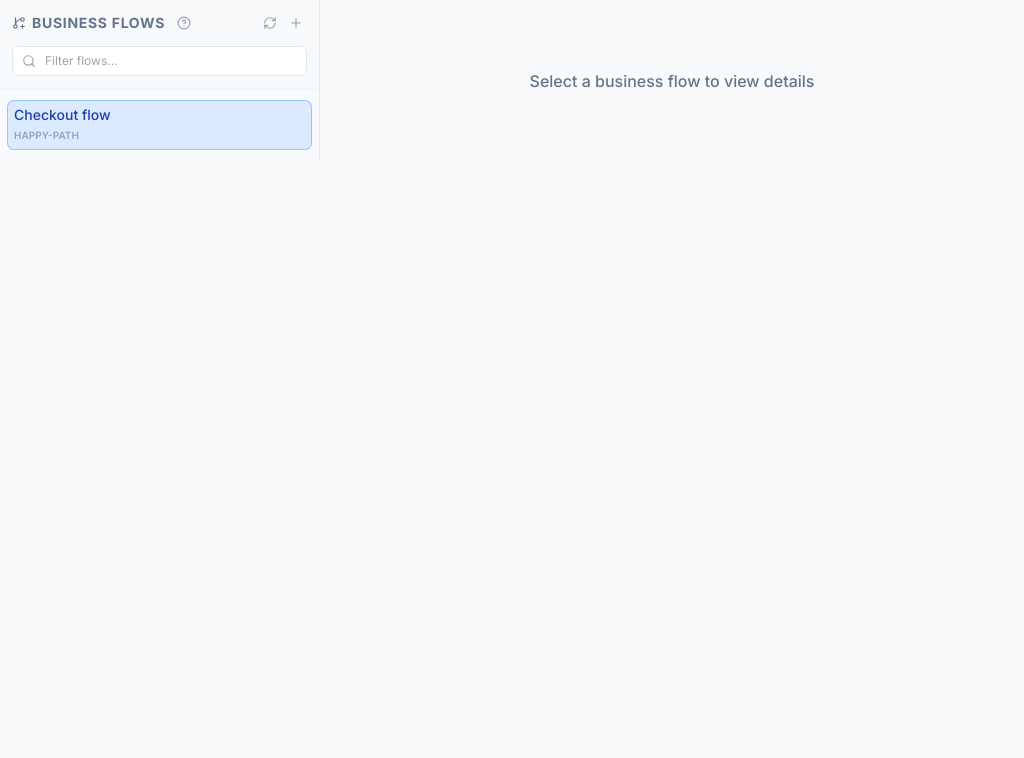
Scenario: BusinessFlowsPage › renders business flows for the current project
Click the text "Checkout flow" at (62, 114), box [14,106,111,123]
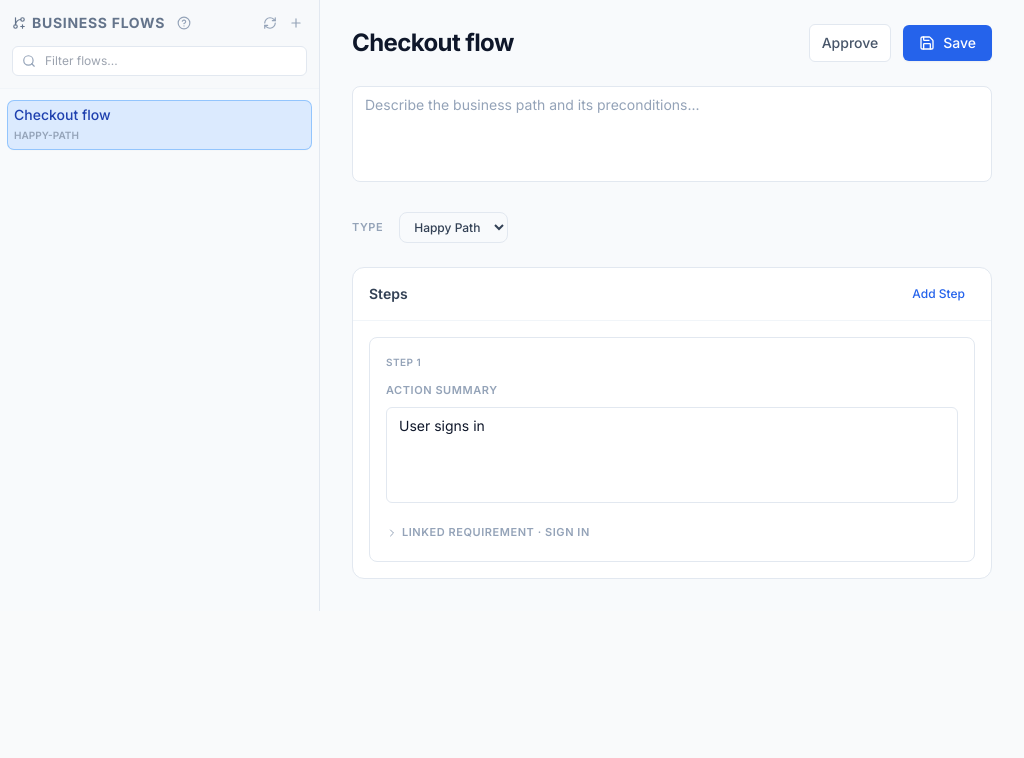
Result: the field showing "Checkout flow" is shown at [352,27,793,59]
Result: the text "Step 1" is shown at [386,354,421,370]
Result: the text "Action Summary" is shown at [386,383,498,397]
Click the button "Linked Requirement · Sign in" at (488, 533), box [386,524,590,541]
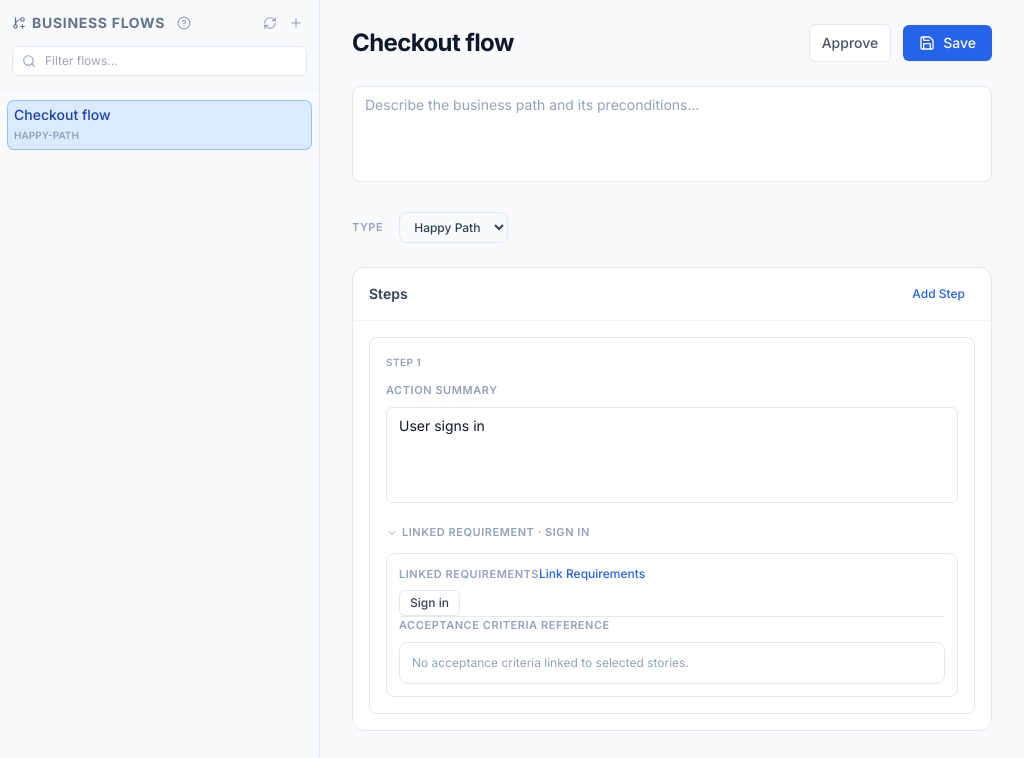
Result: the text "Linked Requirements" is shown at [399,566,539,582]
Result: the button "Link Requirements" is shown
Click the button "Link Requirements" at (592, 574), box [539,566,645,582]
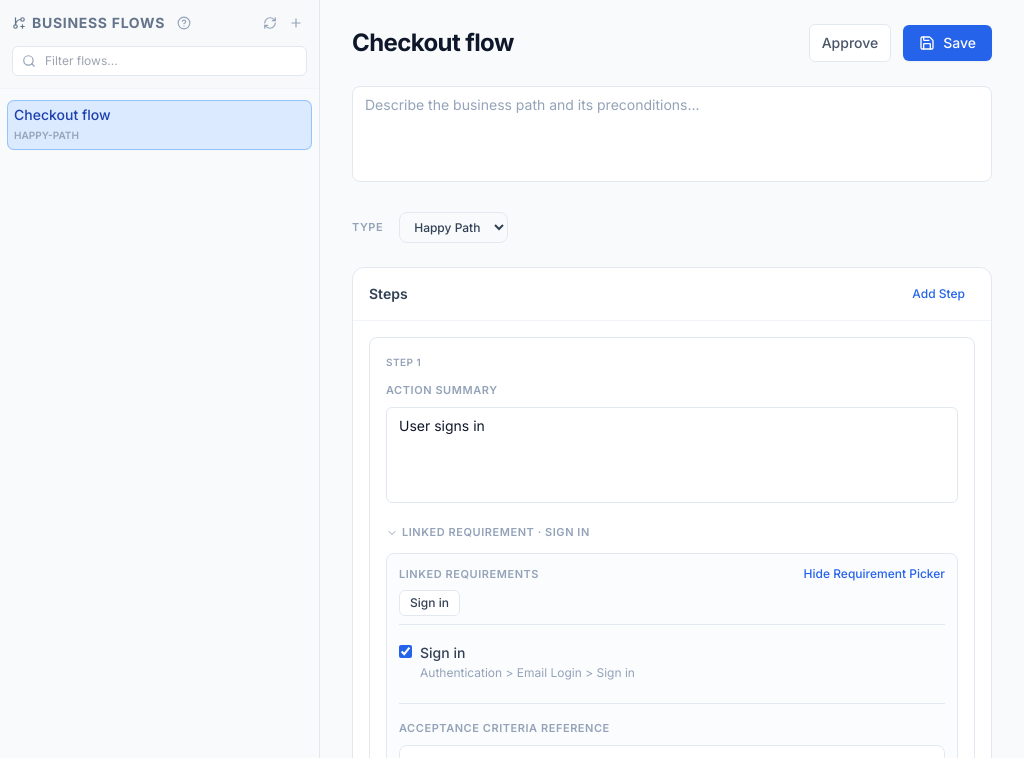
Result: the text "Acceptance Criteria Reference" is shown at [399,721,610,735]
Result: the checkbox named "Select requirement Sign in" is shown at [399,645,412,658]
Result: the text "Authentication > Email Login > Sign in" is shown at [420,665,635,681]
